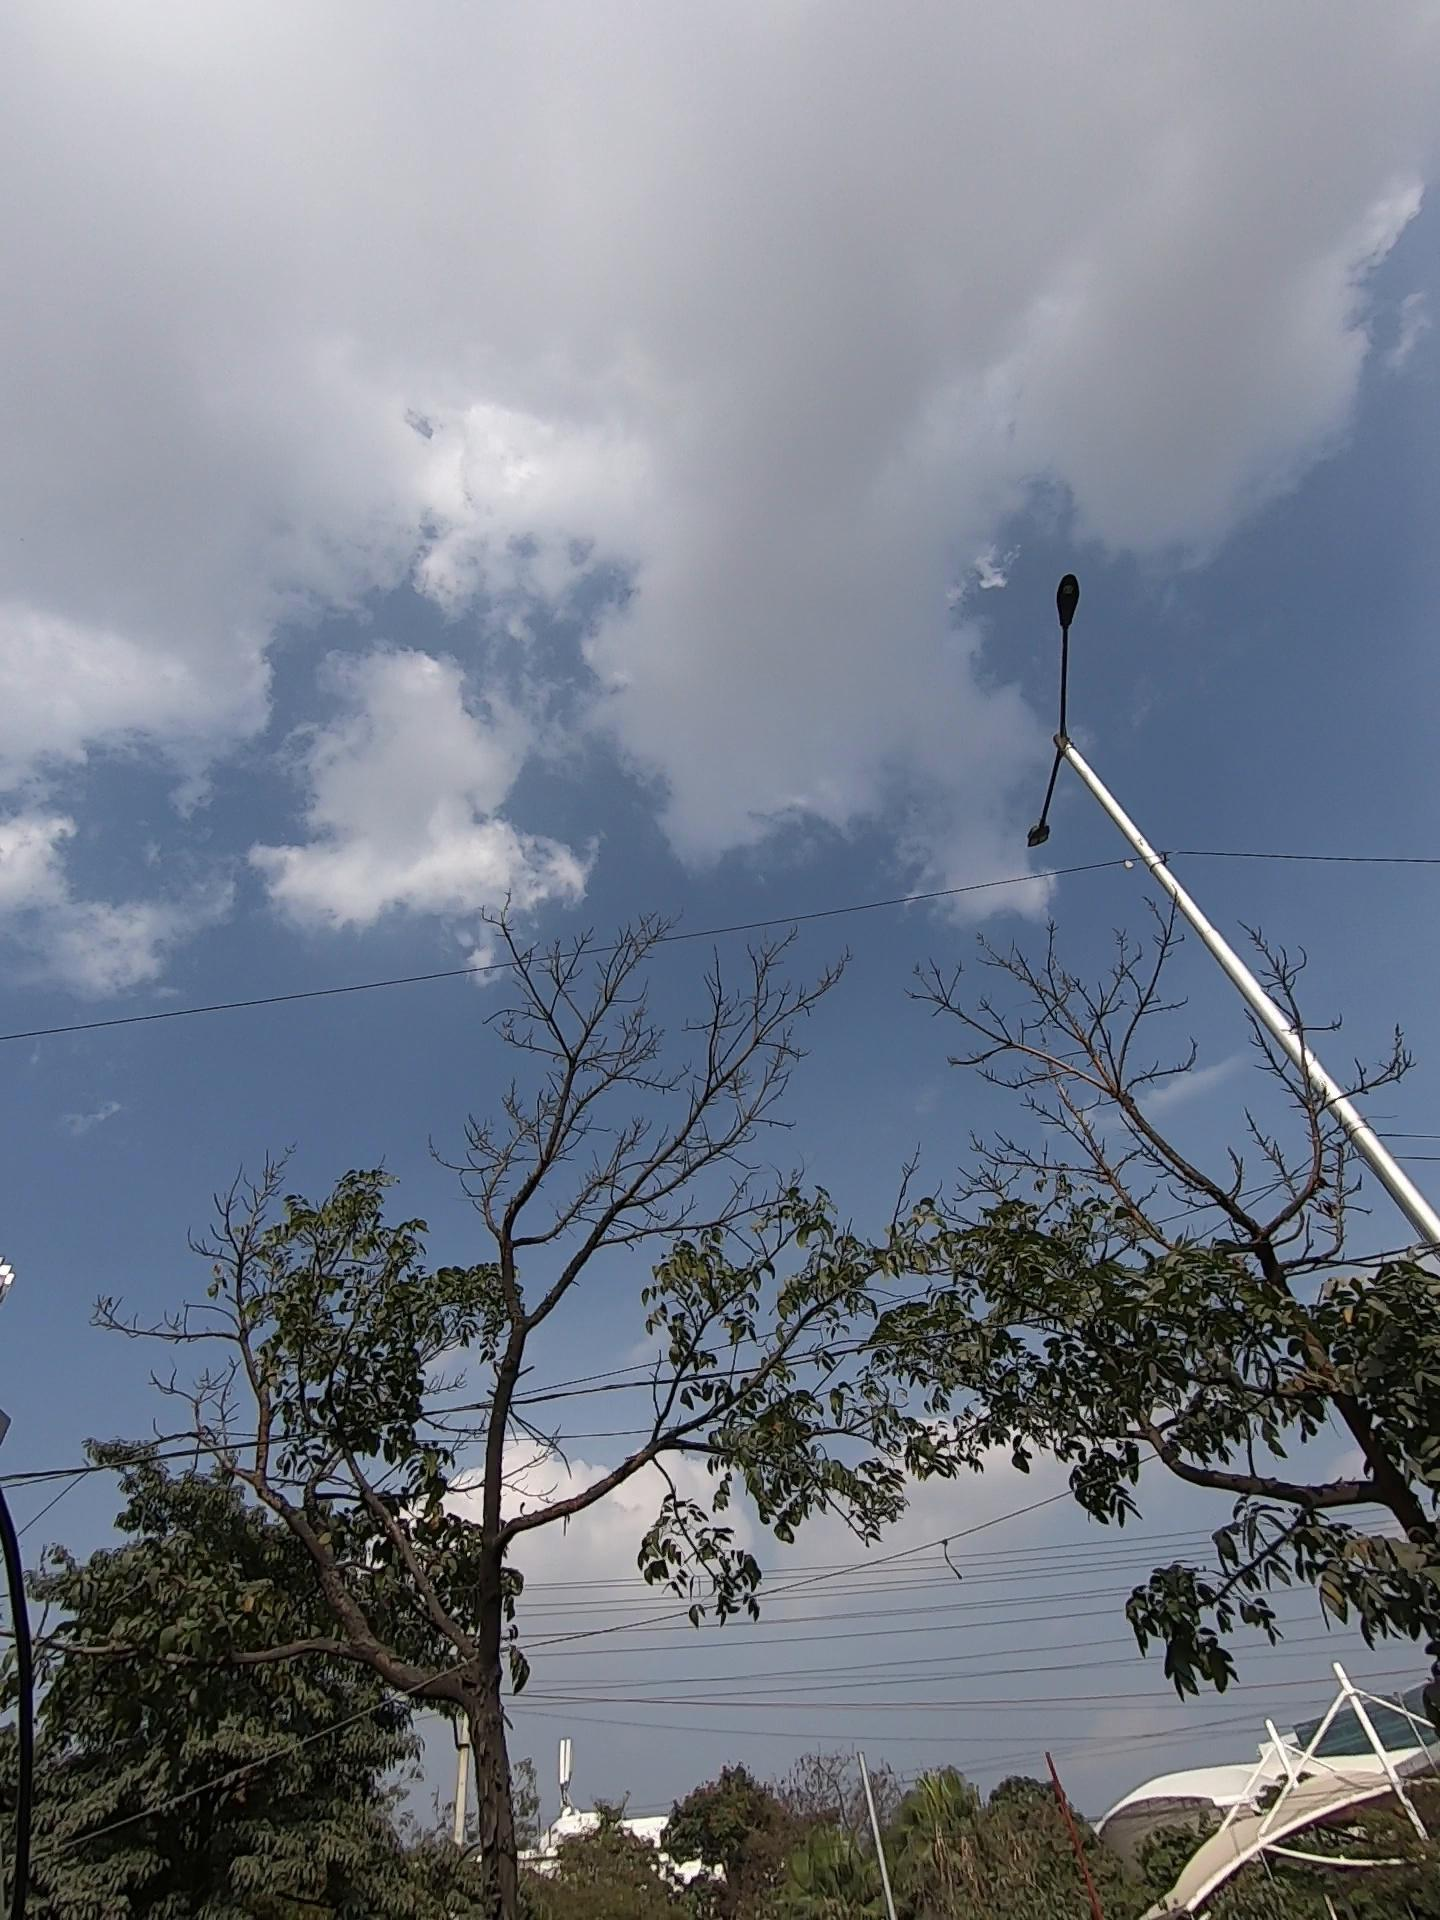off: (961, 431, 1144, 916)
